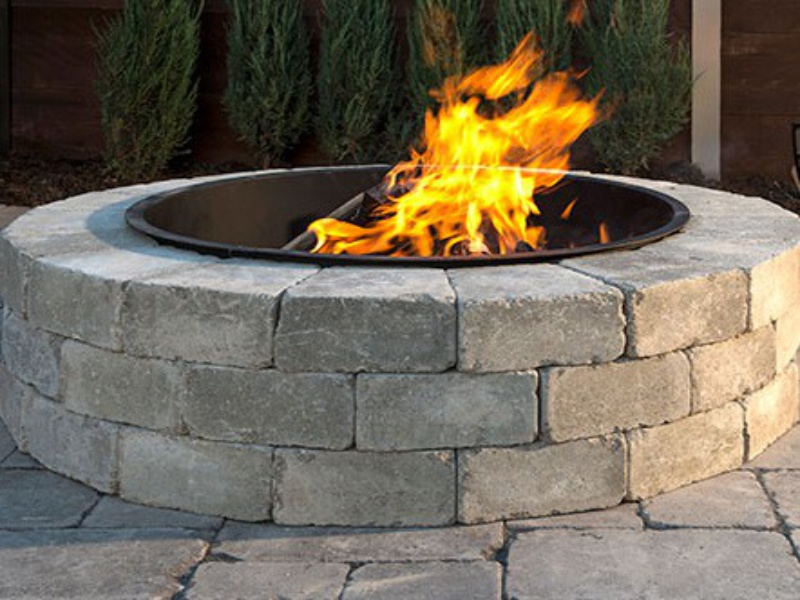fire: (424, 35, 548, 254), (309, 201, 391, 255), (547, 66, 599, 150), (393, 180, 424, 251), (384, 156, 424, 180)
